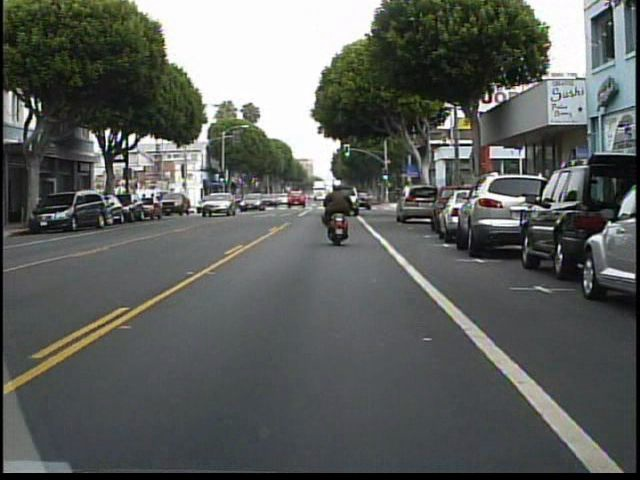person: (322, 175, 359, 246)
